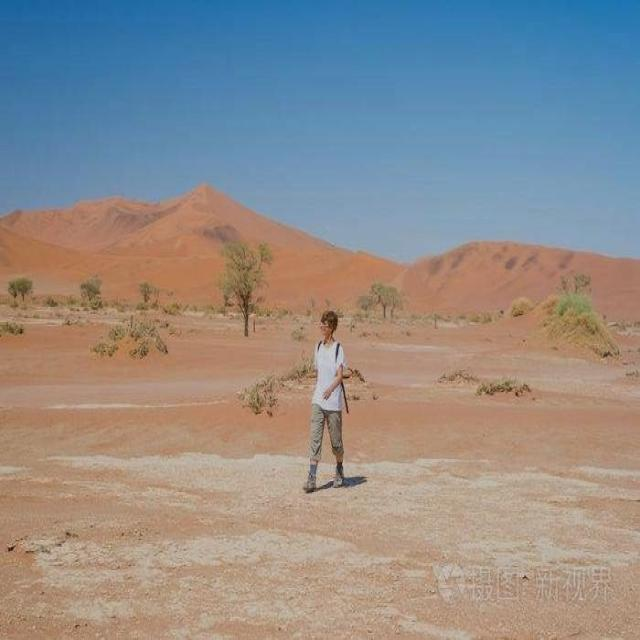non-fight: (300, 308, 367, 495)
